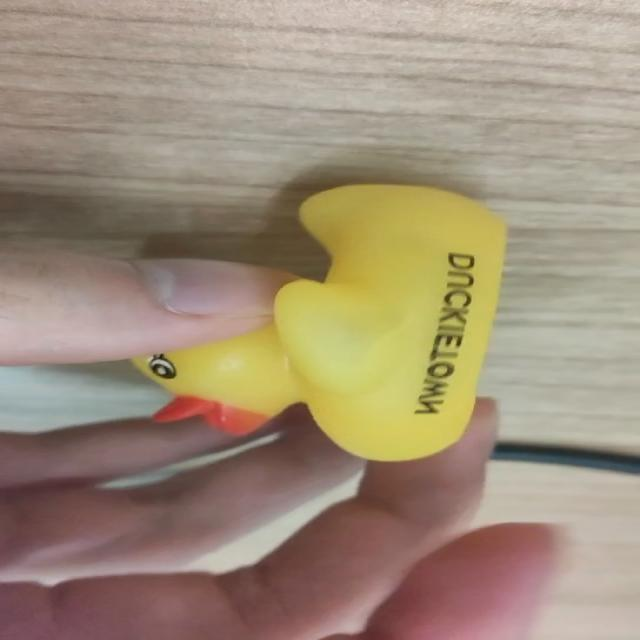rubber-duck: (133, 184, 504, 459)
